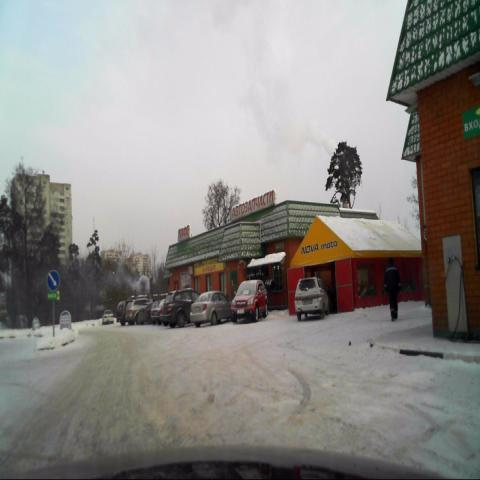4_2_1: (46, 268, 60, 290)
